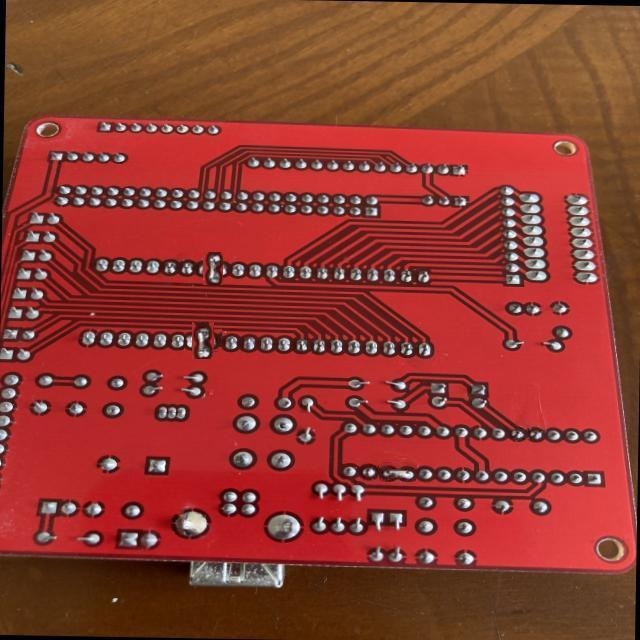damged: (188, 326, 218, 356), (378, 462, 416, 482), (199, 255, 227, 282)
